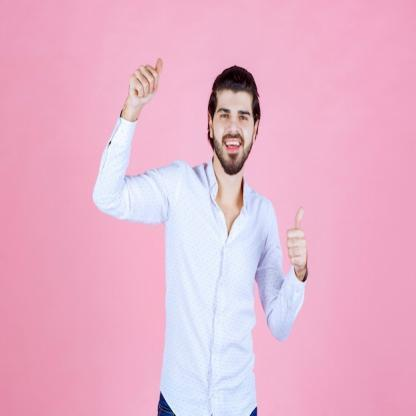thumb_up: (126, 51, 166, 109), (283, 203, 310, 274)
